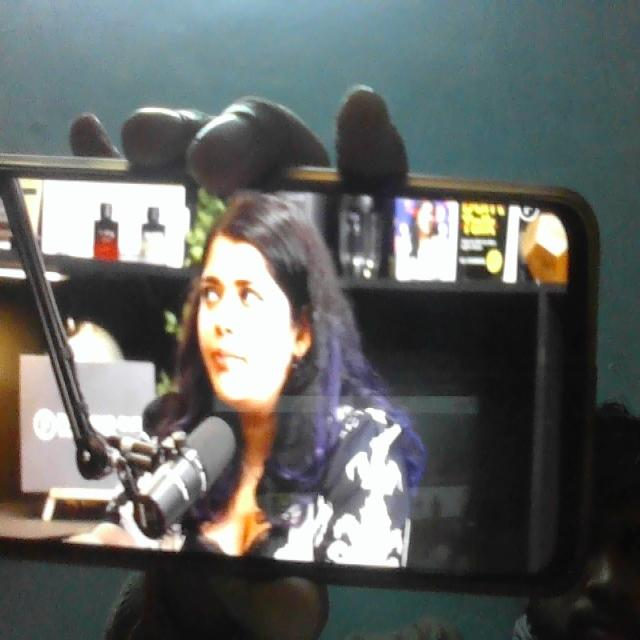fake: (183, 164, 316, 415)
